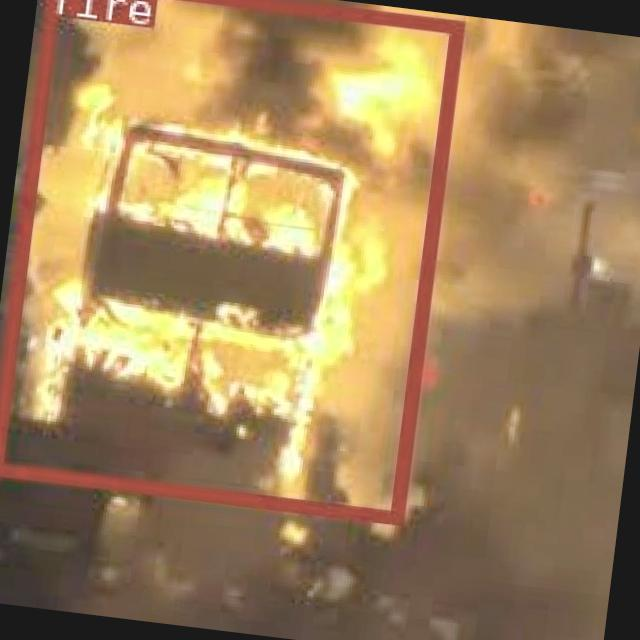fire: (0, 0, 463, 523)
